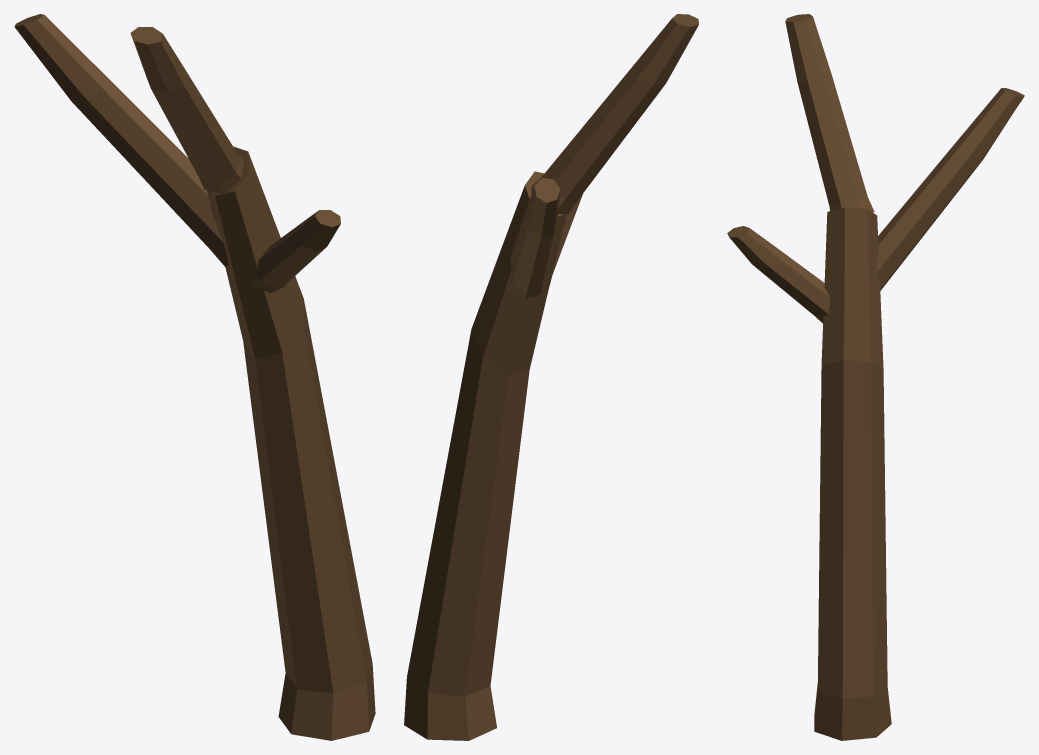
Rendered from tree0.fbx.
3 views of the same model, side by side, from view 1: azimuth 30°, elevation 25°; view 2: azimuth 150°, elevation 25°; view 3: azimuth 270°, elevation 25° (orthographic). The views are drawn at different scales.
Visible parts, largest first — view 1: 円.002, 円.004, 円.003, 円.001; view 2: 円.002, 円.003, 円.004; view 3: 円.002, 円.003, 円.004, 円.001.
Part boxes in pixels (<box>): 円.002: <box>207,146,375,740</box>; 円.004: <box>14,14,229,267</box>; 円.003: <box>130,27,243,194</box>; 円.001: <box>250,210,340,293</box>; 円.002: <box>404,171,566,740</box>; 円.003: <box>531,14,698,214</box>; 円.004: <box>510,178,560,299</box>; 円.002: <box>814,207,891,740</box>; 円.003: <box>785,14,874,212</box>; 円.004: <box>876,88,1024,290</box>; 円.001: <box>727,226,830,323</box>.
Bounding box in the file's own units: 619 × 1685 × 729.
